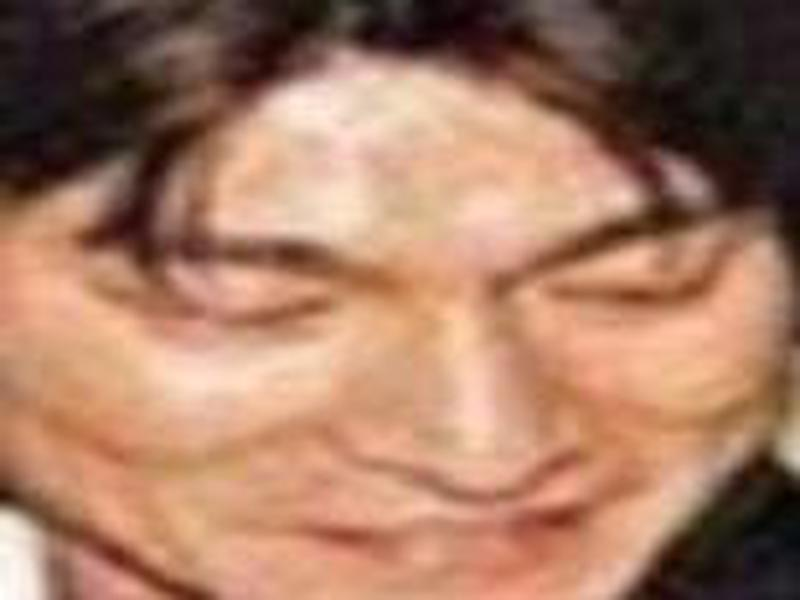without_mask: (1, 51, 780, 585)
